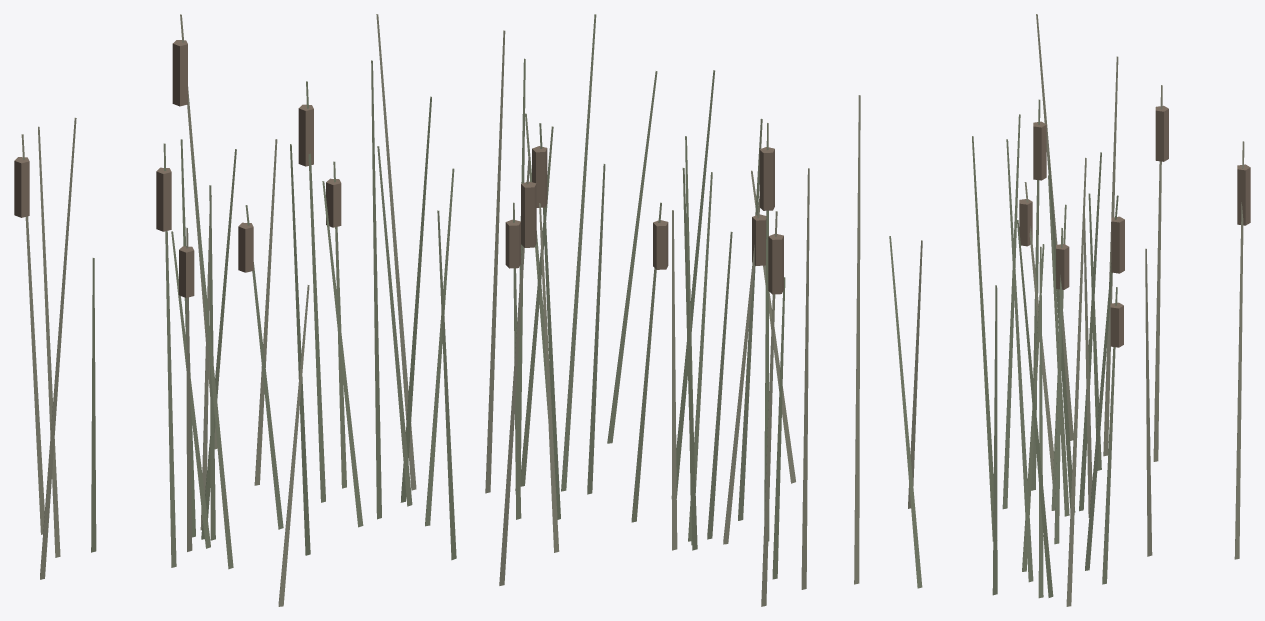
Rendered from reed_bed.gltf.
The picture shows the model from 3 angles, left to right: view 1: azimuth 30°, elevation 25°; view 2: azimuth 150°, elevation 25°; view 3: azimuth 270°, elevation 25°; orthographic projection. The views are drawn at different scales.
Parts seen in each view (by area): view 1: Body; view 2: Body; view 3: Body.
Boxes of the visible parts, x1,y1,x2,y2 form: Body: [14, 14, 456, 606]; Body: [485, 14, 860, 606]; Body: [889, 14, 1250, 606].
Size of the model in its own units: 2.13 by 2.58 by 1.94.
